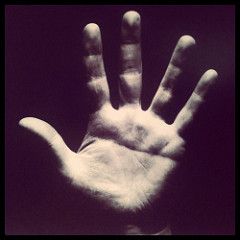palm: (74, 115, 171, 215)
